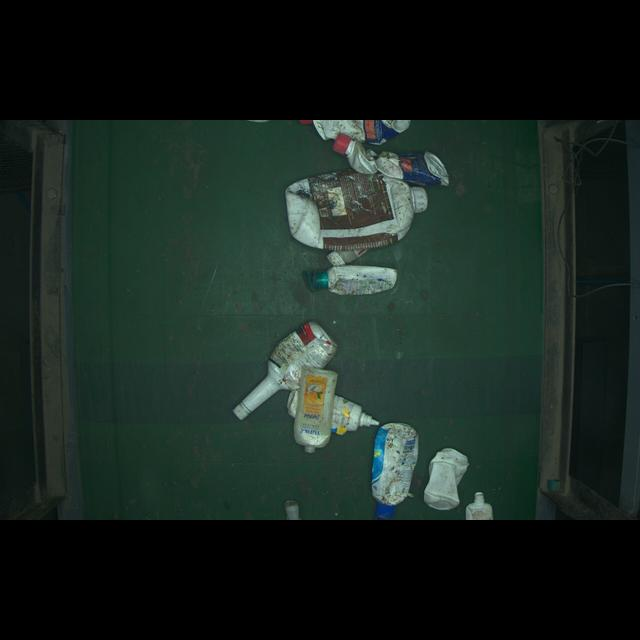mix PET: (282, 164, 437, 251), (373, 415, 418, 525), (294, 364, 337, 460), (303, 265, 400, 301), (422, 440, 468, 511)
